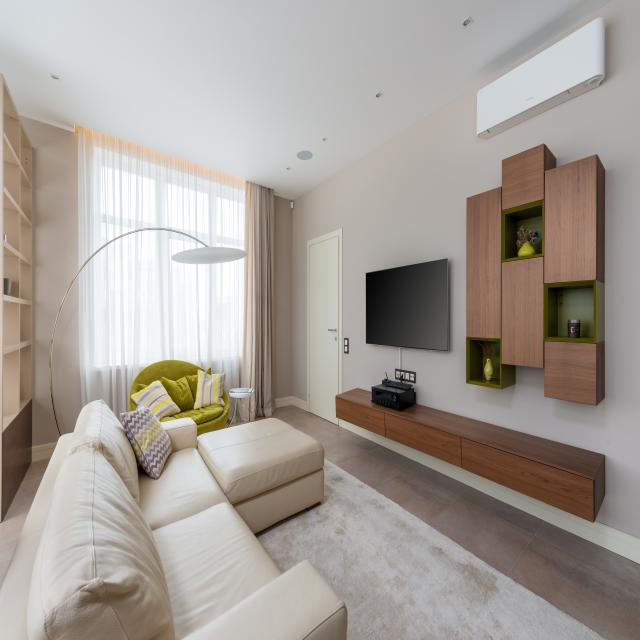floor: (229, 404, 640, 640), (0, 458, 51, 585), (224, 421, 230, 429)
wall: (292, 0, 640, 564), (466, 143, 605, 426), (19, 115, 78, 462), (477, 17, 605, 139), (273, 195, 293, 408), (1, 398, 32, 522)
